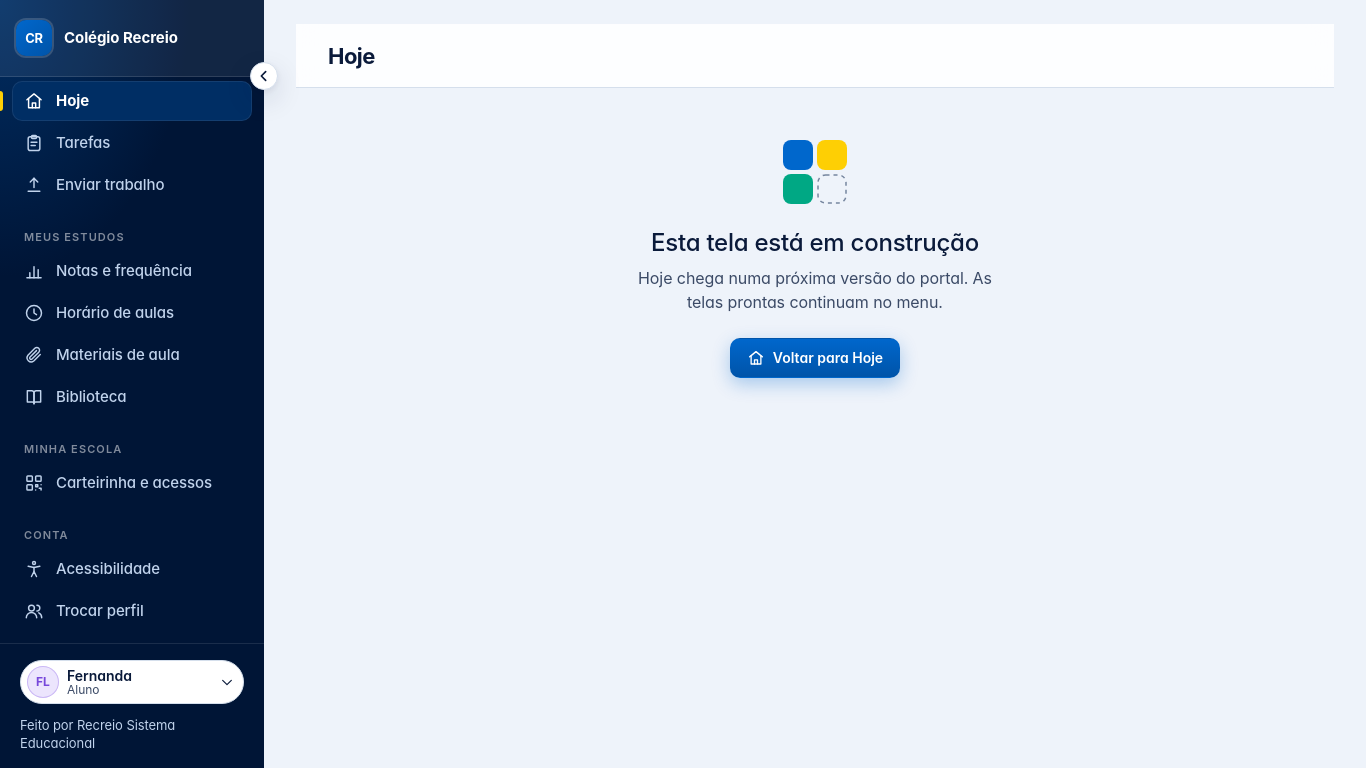
Scenario: EscolhaPerfilPage › "Trocar perfil" no menu volta para a escolha
Click the link "Trocar perfil" at [84, 611], box [24,601,144,621]
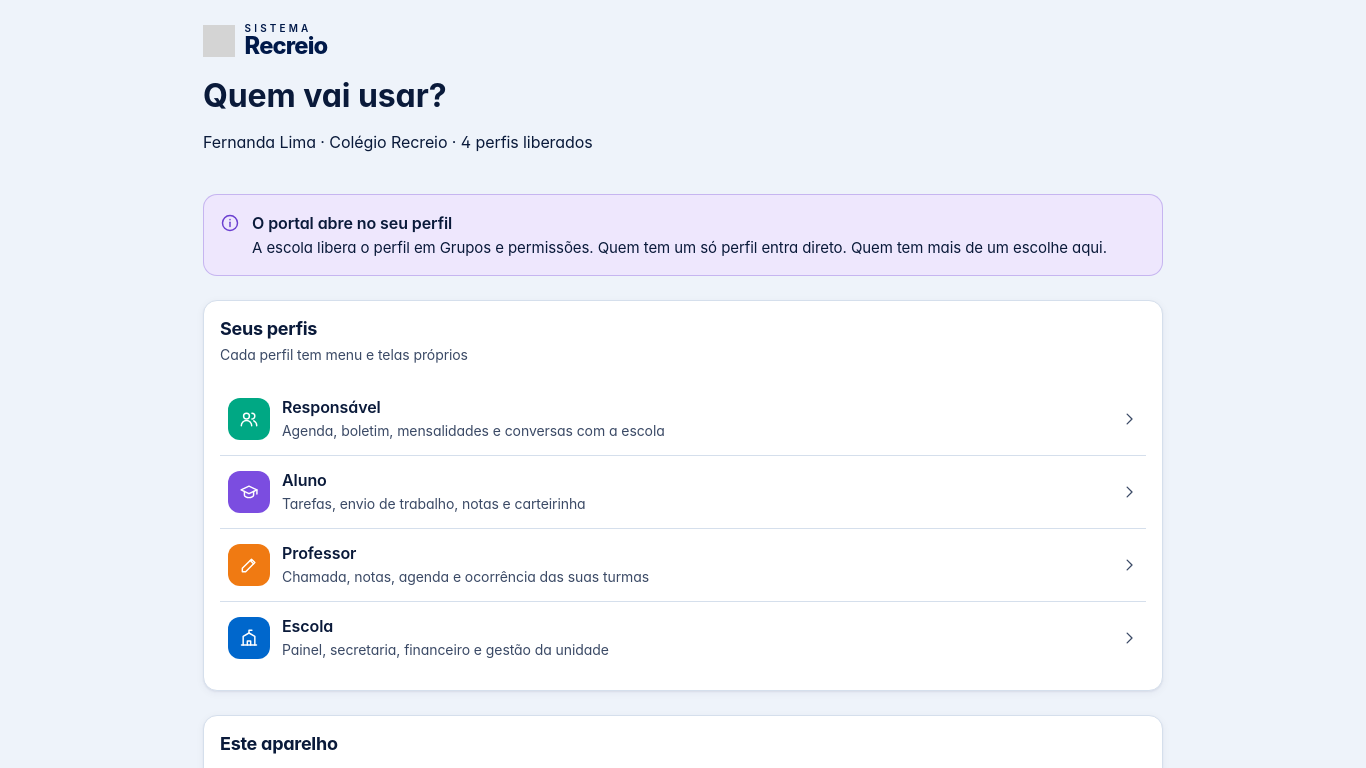
Expected: the heading "Quem vai usar?" is shown, [203,76,446,115]
